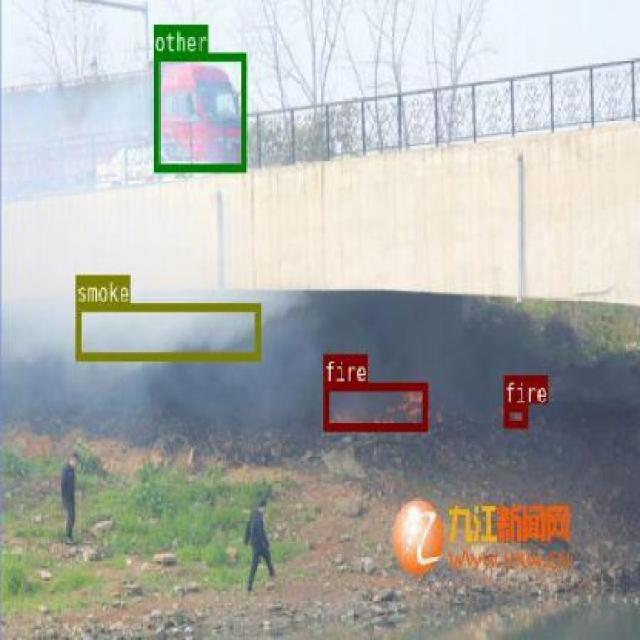Fire: (322, 382, 427, 430)
Smoke: (74, 300, 260, 360)
